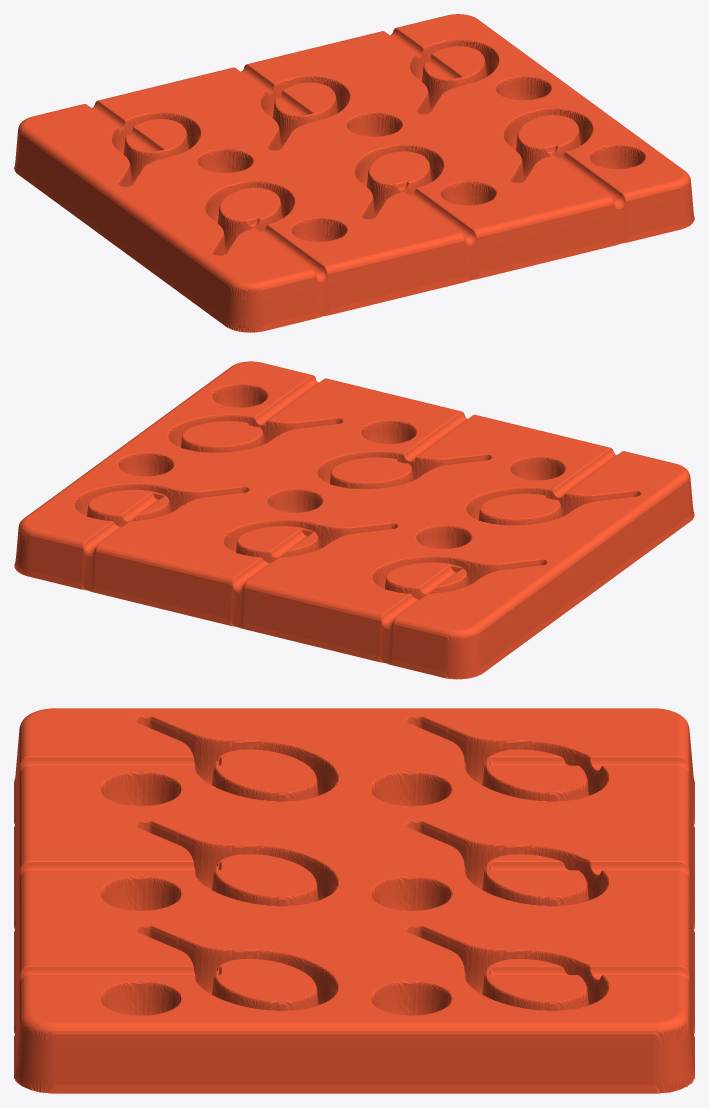
Rendered from mold.glb.
3 views of the same model, one above another, from view 1: azimuth 30°, elevation 25°; view 2: azimuth 150°, elevation 25°; view 3: azimuth 270°, elevation 25° (orthographic). The views are drawn at different scales.
Visible parts, largest first — view 1: geometry_0; view 2: geometry_0; view 3: geometry_0.
Boxes of the visible parts, x1,y1,x2,y2 form: geometry_0: (14,14,694,332); geometry_0: (14,361,694,679); geometry_0: (14,708,694,1093).
Bounding box in the file's own units: 0.1677 × 0.0155 × 0.1477.
